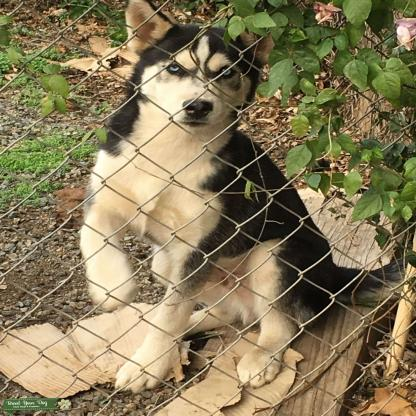dog: (83, 3, 330, 395)
